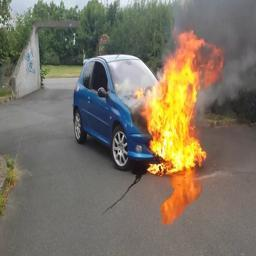fire: (135, 30, 227, 174)
